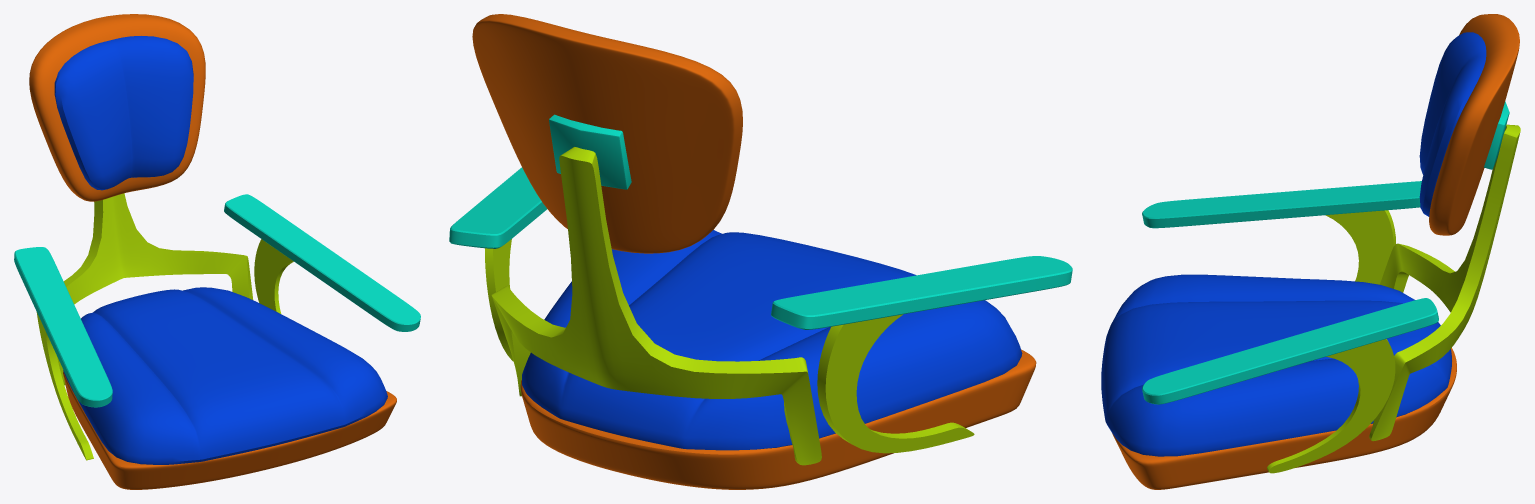
The model's file is Chair Final with ID mask.fbx.
The picture shows the model from 3 angles, left to right: view 1: azimuth 30°, elevation 25°; view 2: azimuth 150°, elevation 25°; view 3: azimuth 270°, elevation 25°; orthographic projection. The views are drawn at different scales.
Parts seen in each view (by area): view 1: 00 Chair.001; view 2: 00 Chair.001; view 3: 00 Chair.001.
Boxes of the visible parts, box(x1,y1,x2,y2) form: 00 Chair.001: box(14, 14, 420, 489); 00 Chair.001: box(449, 14, 1072, 489); 00 Chair.001: box(1101, 14, 1520, 489).
Bounding box in the file's own units: 353 × 324 × 325.
